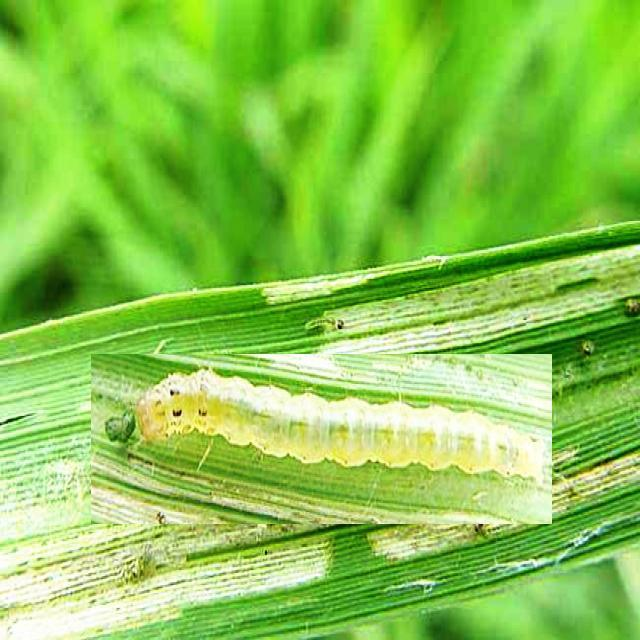leaf-folder: (91, 354, 552, 524)
